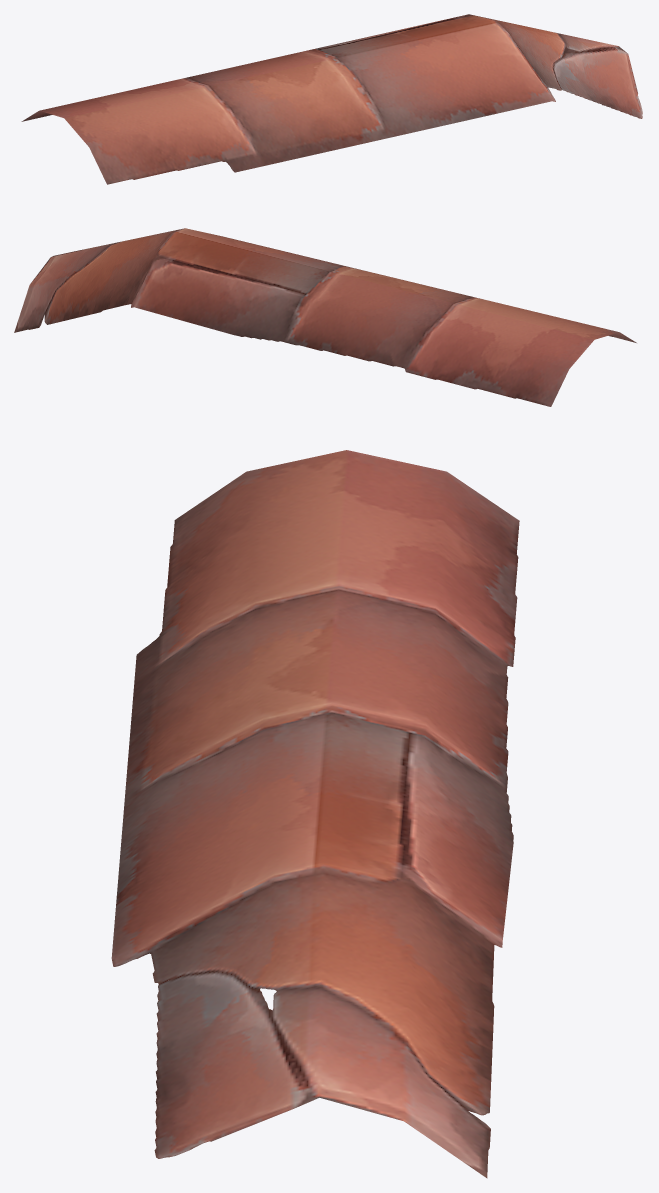
Rendered from WallKit_Ridge_End_LOD0.fbx.
3 renders of one model, top to bottom at view 1: azimuth 30°, elevation 25°; view 2: azimuth 150°, elevation 25°; view 3: azimuth 270°, elevation 25°, orthographic. The views are drawn at different scales.
Visible parts, largest first — view 1: WallKit_Ridge_End_LOD0; view 2: WallKit_Ridge_End_LOD0; view 3: WallKit_Ridge_End_LOD0.
Part boxes in pixels (box(x1,y1,x2,y2)): WallKit_Ridge_End_LOD0: box(21, 14, 642, 184); WallKit_Ridge_End_LOD0: box(14, 228, 636, 406); WallKit_Ridge_End_LOD0: box(111, 450, 519, 1178).
Bounding box in the file's own units: 129 × 22.35 × 44.15.
